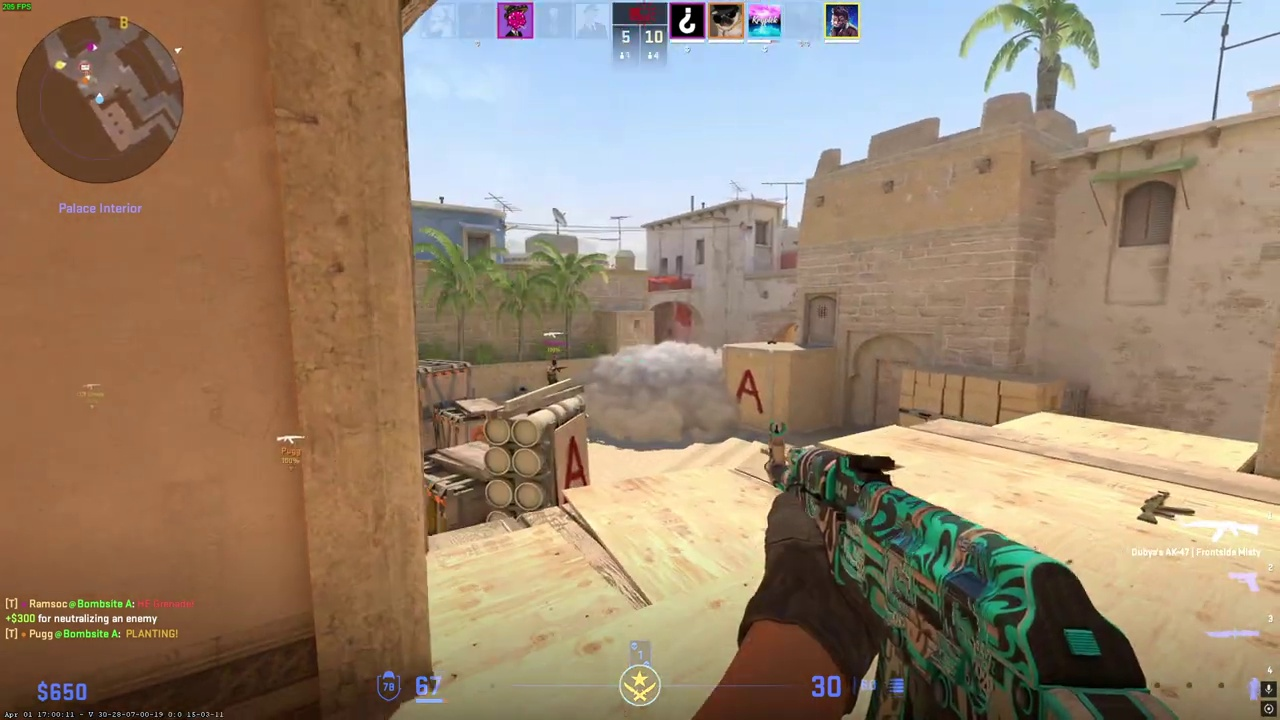Terrorist: (546, 359, 560, 385)
